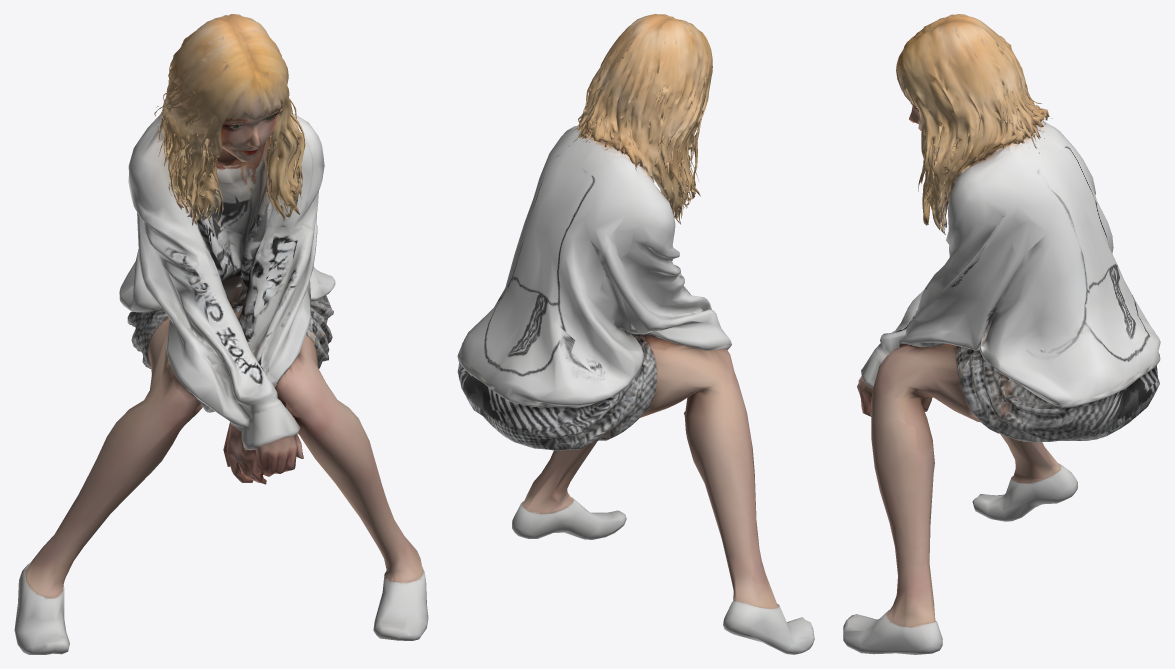
The model's file is Contemplation.glb.
3 renders of one model, left to right at view 1: azimuth 30°, elevation 25°; view 2: azimuth 150°, elevation 25°; view 3: azimuth 270°, elevation 25°, orthographic. The views are drawn at different scales.
Visible parts, largest first — view 1: Contemplation; view 2: Contemplation; view 3: Contemplation.
Part boxes in pixels (bbox=[...]): Contemplation: bbox=[14, 14, 428, 654]; Contemplation: bbox=[457, 14, 814, 654]; Contemplation: bbox=[843, 14, 1160, 654].
Size of the model in its own units: 1.04 by 1.7 by 0.857.
Materials: 1 (1 with a texture image).
